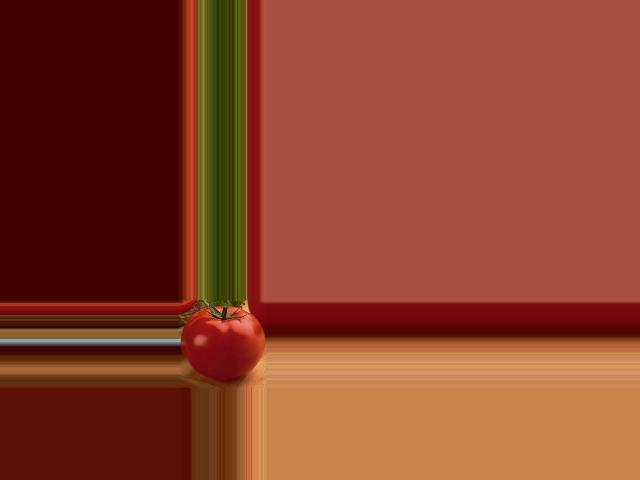tomato: (181, 306, 265, 379)
